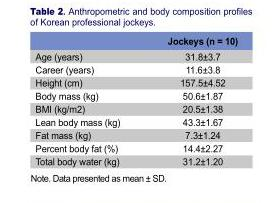table: (34, 34, 237, 166)
table column: (34, 34, 143, 166), (143, 34, 237, 166)
table column header: (34, 34, 237, 48)
table row: (34, 34, 237, 48), (34, 48, 237, 62), (34, 114, 237, 128), (34, 62, 237, 75), (34, 75, 237, 88), (34, 88, 237, 101), (34, 101, 237, 114), (34, 128, 237, 141), (34, 141, 237, 154), (34, 154, 237, 166)
